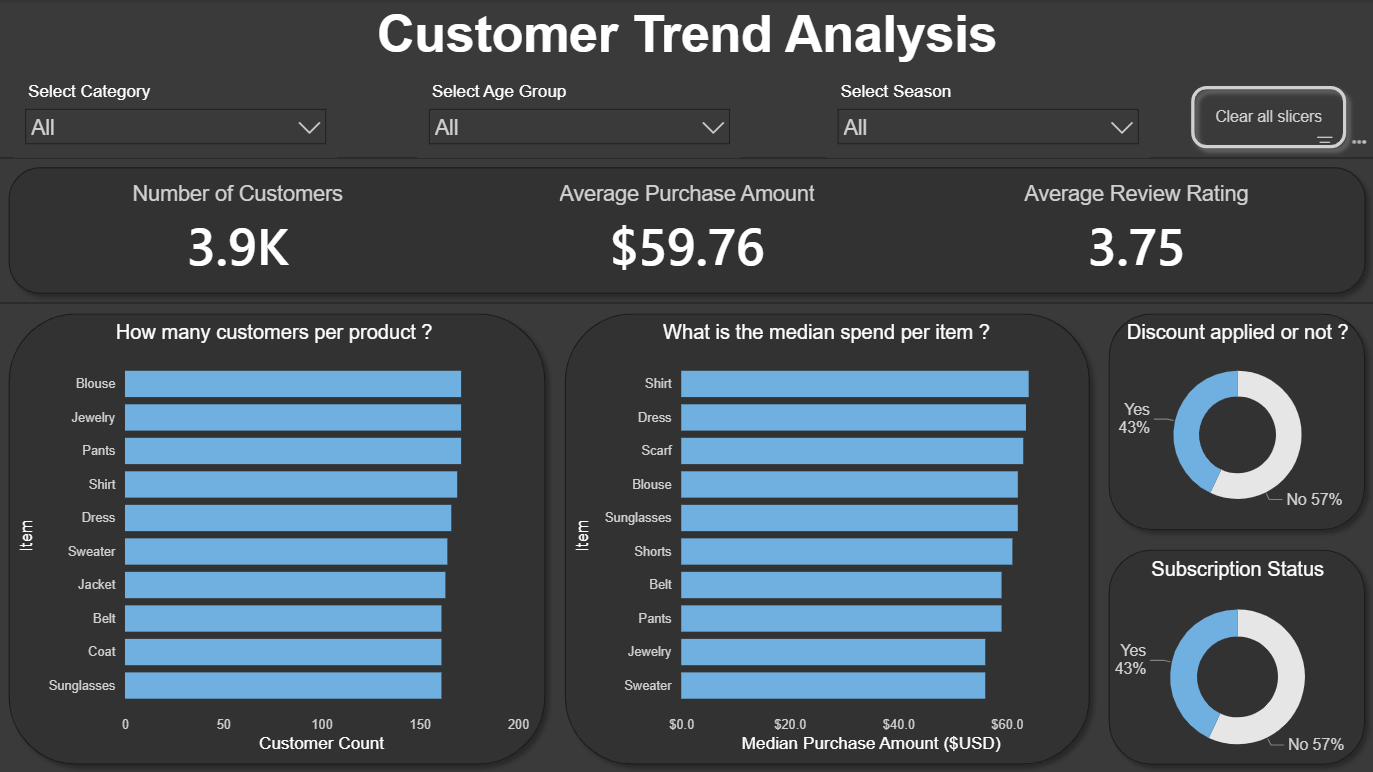

This screenshot's page, from the dashboard's own definition file:
{"tool":"powerbi","page":{"name":"customer_bahevior_dashboard","canvas":[1280,720],"ordinal":0},"visuals":[{"type":"group","id":"g1","title":"Background","box":[0,146.8,1280.3,573.6],"z":0},{"type":"shape","box":[0,146.8,1280.3,135.8],"z":0,"group":"g1"},{"type":"textbox","box":[0,0,1280.3,71.4],"z":1000},{"type":"shape","box":[0,282.6,517.3,437.7],"z":1000,"group":"g1"},{"type":"cardVisual","fields":{"Data":["customer_behavior customer.Number of Customers","customer_behavior customer.Average Purchase Amount","customer_behavior customer.Average Review Rating"]},"box":[0,146.8,1280.3,135.8],"z":2000},{"type":"shape","box":[517.3,282.6,506.3,437.7],"z":2000,"group":"g1"},{"type":"shape","box":[1023.7,282.6,256.6,219.6],"z":3000,"group":"g1"},{"type":"barChart","title":"How many customers per product ?","fields":{"Y":["CountNonNull(customer_behavior customer.customer_id)"],"Category":["customer_behavior customer.item_purchased"]},"box":[13.2,299,486.3,405.9],"z":3000},{"type":"barChart","title":"What is the median spend per item ?","fields":{"Category":["customer_behavior customer.item_purchased"],"Y":["Median(customer_behavior customer.purchase_amount)"]},"box":[530.7,299,479.1,405.9],"z":4000},{"type":"shape","box":[1023.7,502.2,256.6,218.2],"z":4000,"group":"g1"},{"type":"donutChart","title":"Discount applied or not ?","fields":{"Y":["CountNonNull(customer_behavior customer.discount_applied)"],"Category":["customer_behavior customer.discount_applied"]},"box":[1024.2,299,255.8,190.9],"z":5000},{"type":"donutChart","title":"Subscription Status","fields":{"Y":["CountNonNull(customer_behavior customer.discount_applied)"],"Category":["customer_behavior customer.discount_applied"]},"box":[1024.2,518.7,255.8,201.7],"z":6000},{"type":"slicer","fields":{"Values":["customer_behavior customer.category"]},"box":[13.6,71.5,300.6,76],"z":7000},{"type":"actionButton","box":[1100.2,71.5,162.2,76],"z":8000},{"type":"slicer","fields":{"Values":["customer_behavior customer.age_group"]},"box":[389,71.5,300.6,76],"z":9000},{"type":"slicer","fields":{"Values":["customer_behavior customer.season"]},"box":[770.1,71.5,300.6,76],"z":10000}]}

Visuals, with their boxes in screenshot pixels (x1, y1, x2, y2), scaled from the page's 1280x720 canvas onto the 1373x772 screenshot:
"Background" group: <bbox>0, 157, 1372, 771</bbox>
shape: <bbox>0, 157, 1372, 303</bbox>
textbox: <bbox>0, 0, 1372, 77</bbox>
shape: <bbox>0, 303, 555, 771</bbox>
cardVisual - customer_behavior customer.Number of Customers x customer_behavior customer.Average Purchase Amount: <bbox>0, 157, 1372, 303</bbox>
shape: <bbox>555, 303, 1098, 771</bbox>
shape: <bbox>1098, 303, 1372, 538</bbox>
"How many customers per product ?" barChart: <bbox>14, 321, 536, 756</bbox>
"What is the median spend per item ?" barChart: <bbox>569, 321, 1083, 756</bbox>
shape: <bbox>1098, 538, 1372, 771</bbox>
"Discount applied or not ?" donutChart: <bbox>1099, 321, 1372, 525</bbox>
"Subscription Status" donutChart: <bbox>1099, 556, 1372, 771</bbox>
slicer - customer_behavior customer.category: <bbox>15, 77, 337, 158</bbox>
actionButton: <bbox>1180, 77, 1354, 158</bbox>
slicer - customer_behavior customer.age_group: <bbox>417, 77, 740, 158</bbox>
slicer - customer_behavior customer.season: <bbox>826, 77, 1148, 158</bbox>
